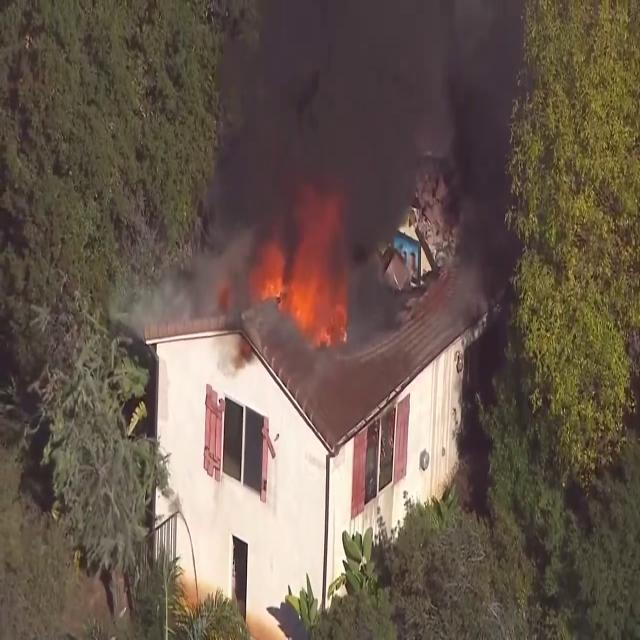Fire: (258, 224, 346, 350)
Smoke: (175, 1, 506, 347)
